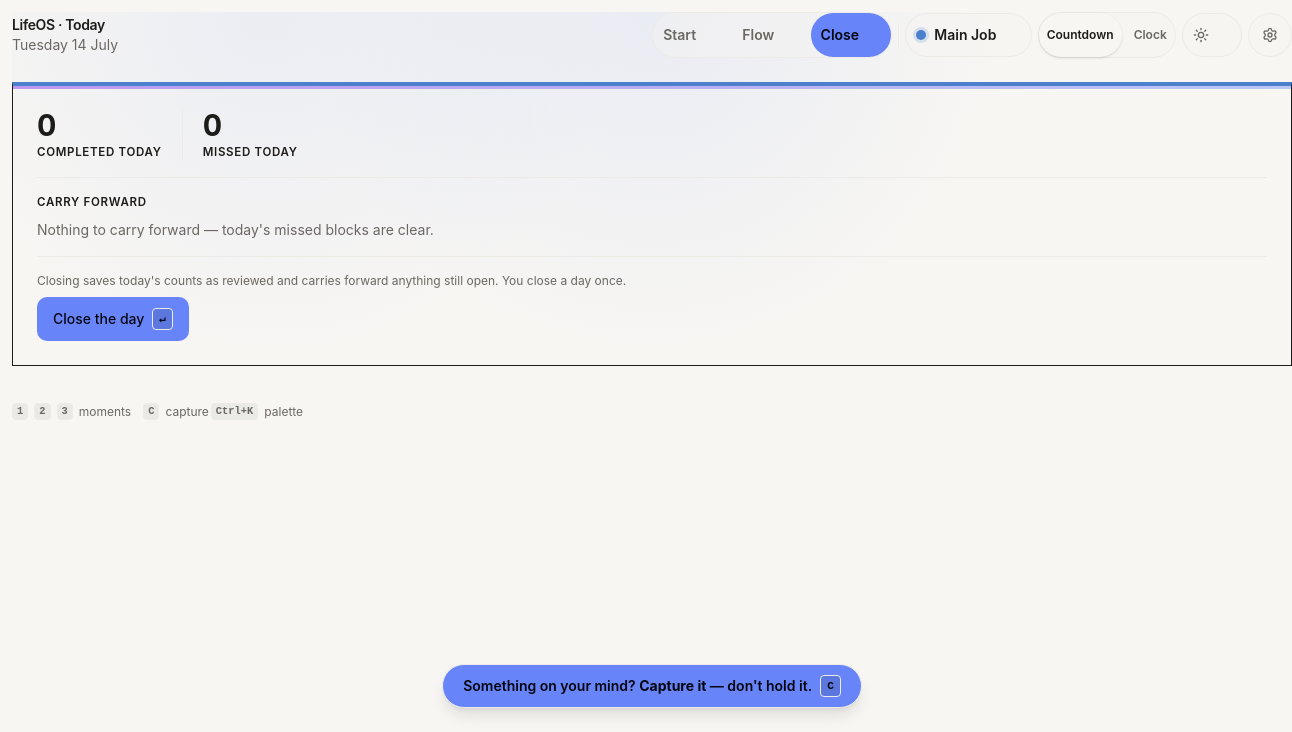
#588 moments close shell: verdict gated on the resolved save › failure: recovery copy, never a closure claim
Click the button with test id "close-moment-close-day". click: [113, 318]
box: [37,296,189,340]
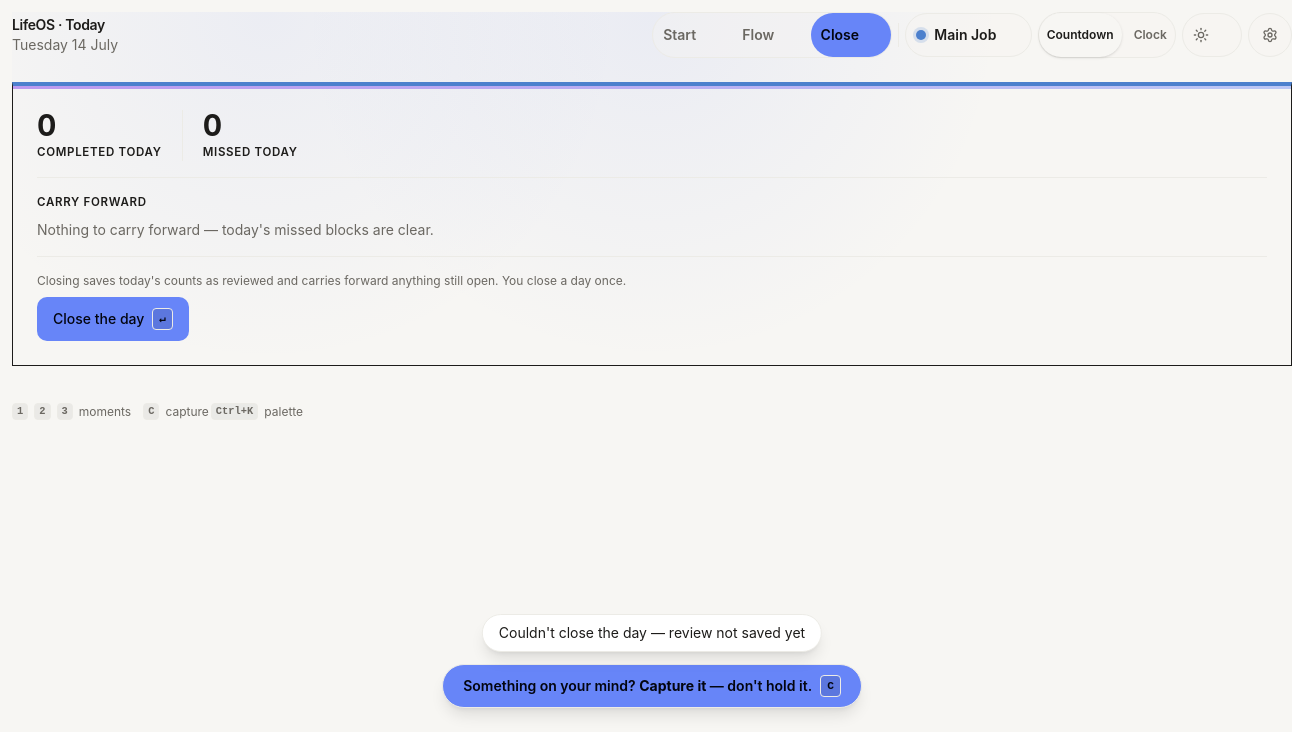
Check: the element with test id "today-moments-toast" reads "Couldn't close the day — review not saved yet", box [499,624,805,641]
